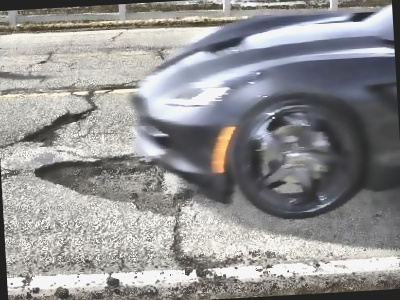pothole: (33, 148, 200, 223), (22, 108, 90, 145)
